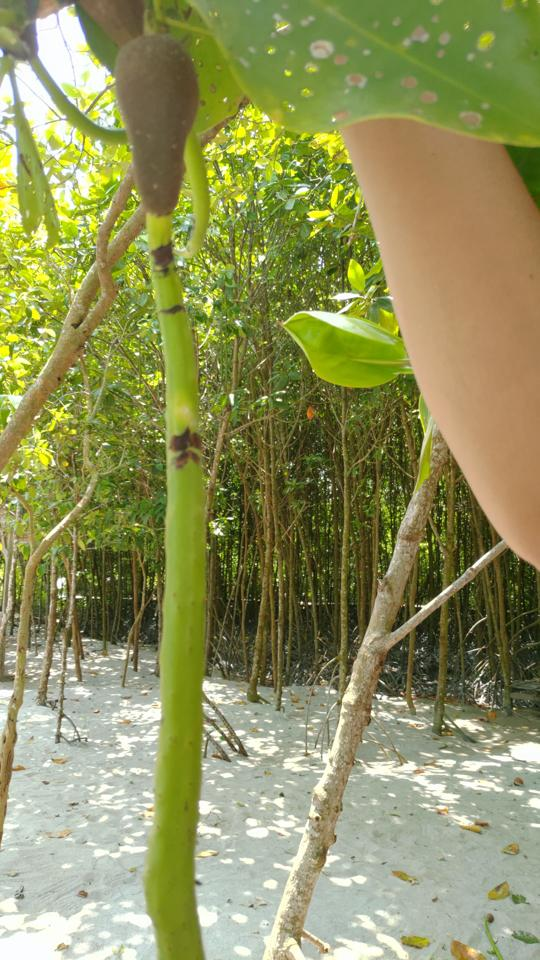setengah matang: (101, 23, 227, 959)
